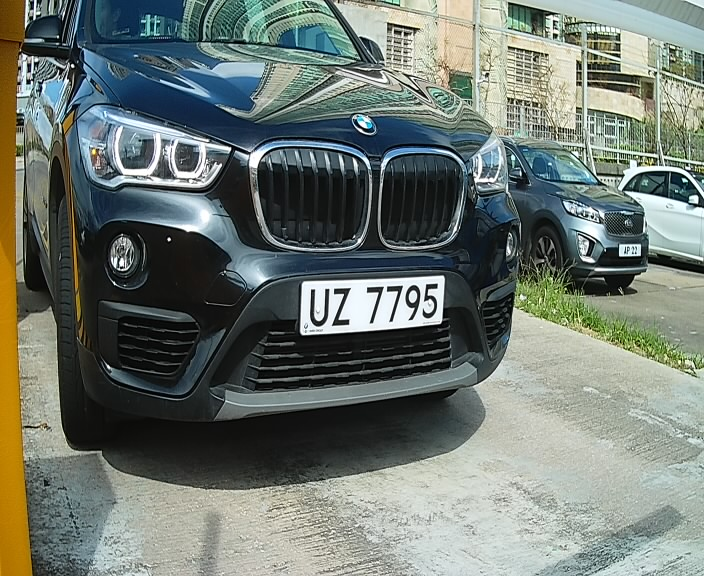Car: (13, 2, 526, 446)
License Plate: (293, 265, 453, 348)
